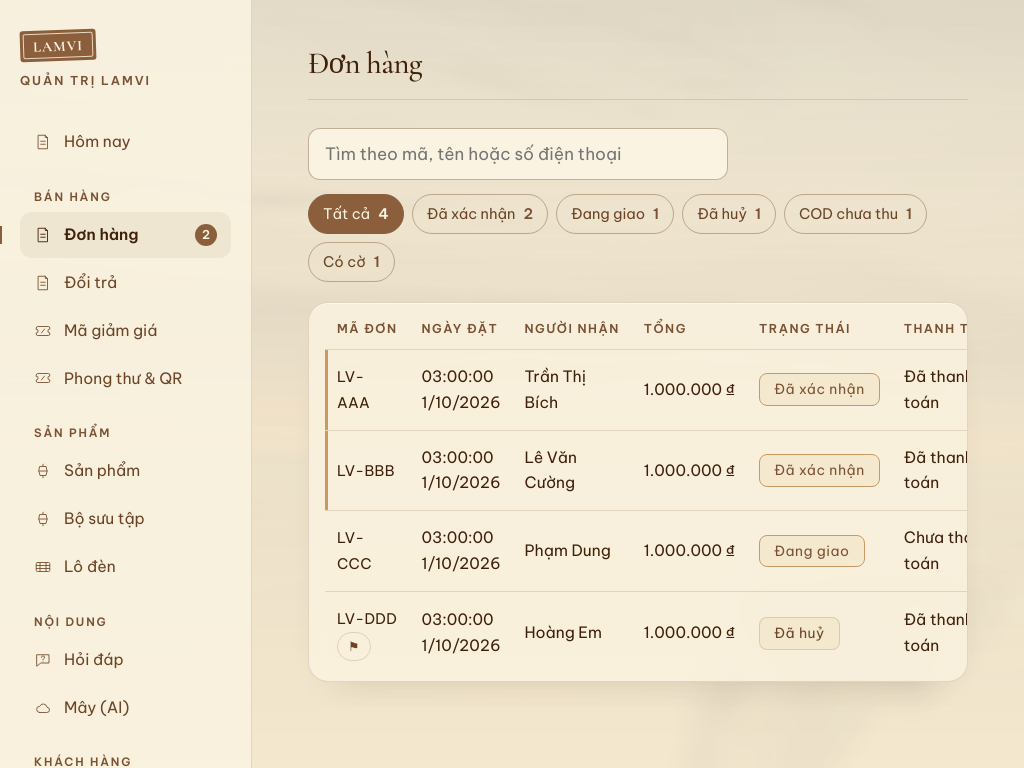
Scenario: OrdersPage — chi tiết bên phải › không có :code → không có aside; bấm hàng → /admin/orders/:code
Expected: the text "LV-AAA" is shown, [337,367,370,412]
Click the text "Lê Văn Cường": click(572, 470) [512,430,632,511]
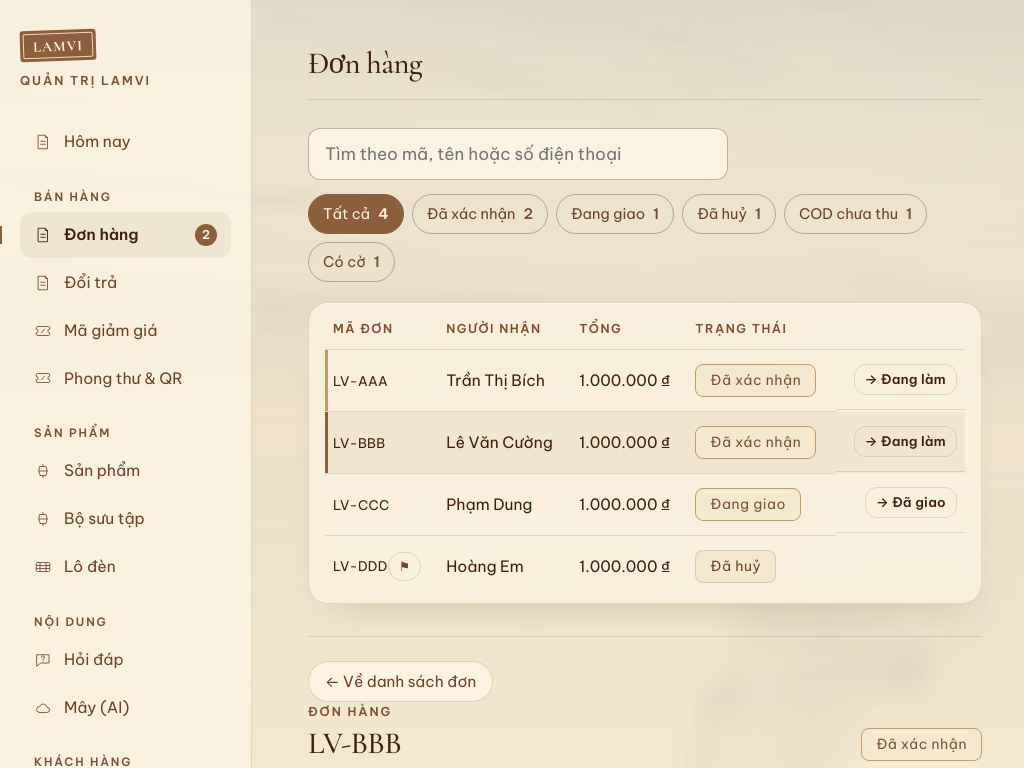
Expected: the text "LV-BBB" is shown, [333,435,386,452]
Expected: the heading "LV-BBB" is shown, [308,728,401,761]
